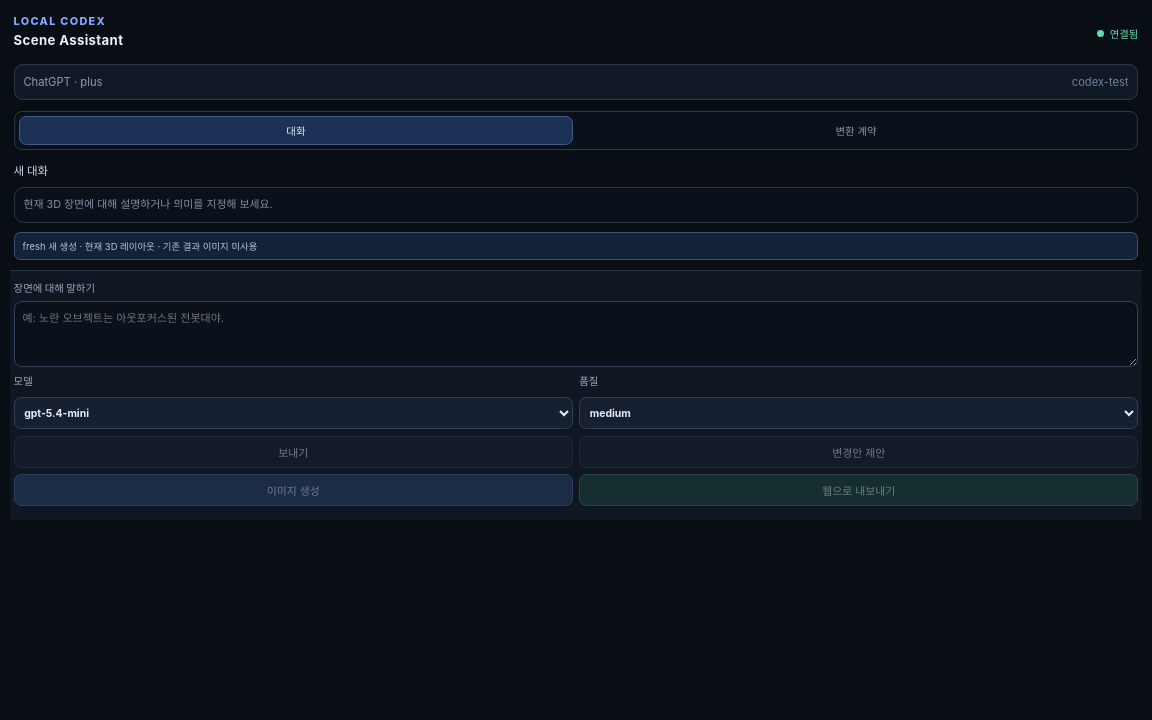
Test: SceneAssistantPanel › Codex 이미지 생성 지원과 무관하게 GPT 웹용 프롬프트를 내보낸다
Type "비 오는 밤의 영화 장면으로 만들어줘." into the text box labelled "장면에 대해 말하기". click: [576, 334]
box: [14,301,1138,367]
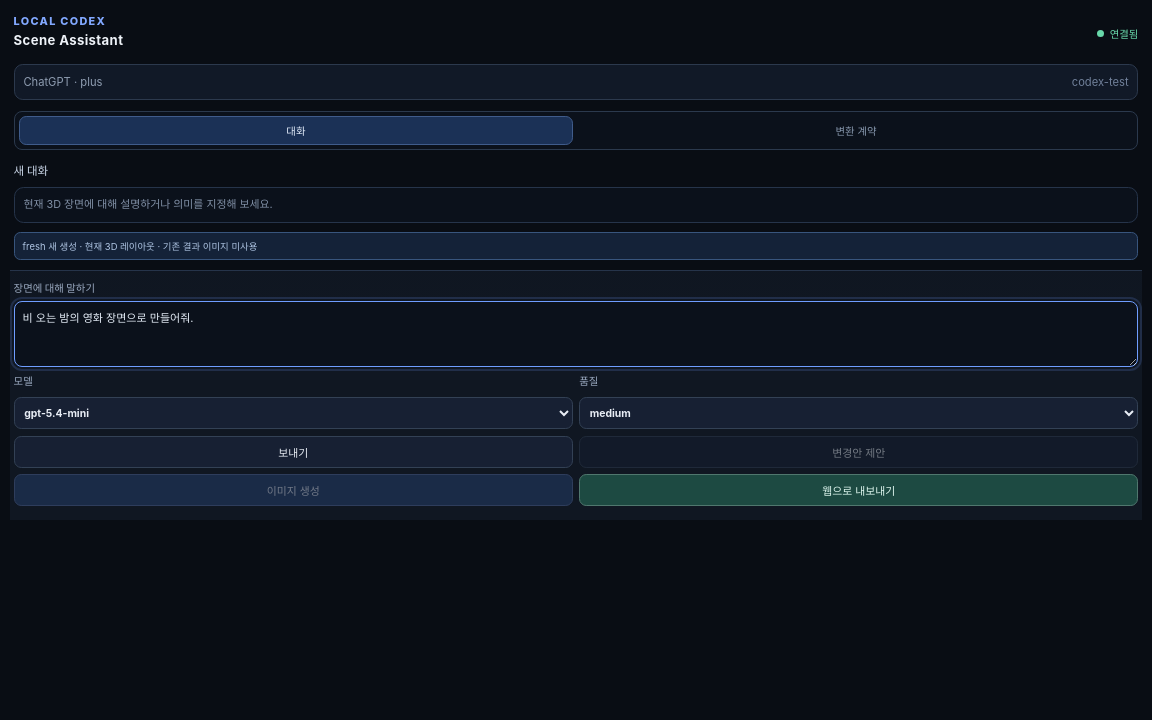
Expected: the button "이미지 생성" is disabled, [14,474,573,506]
Click the button "웹으로 내보내기". click: [859, 490]
box: [579,474,1138,506]
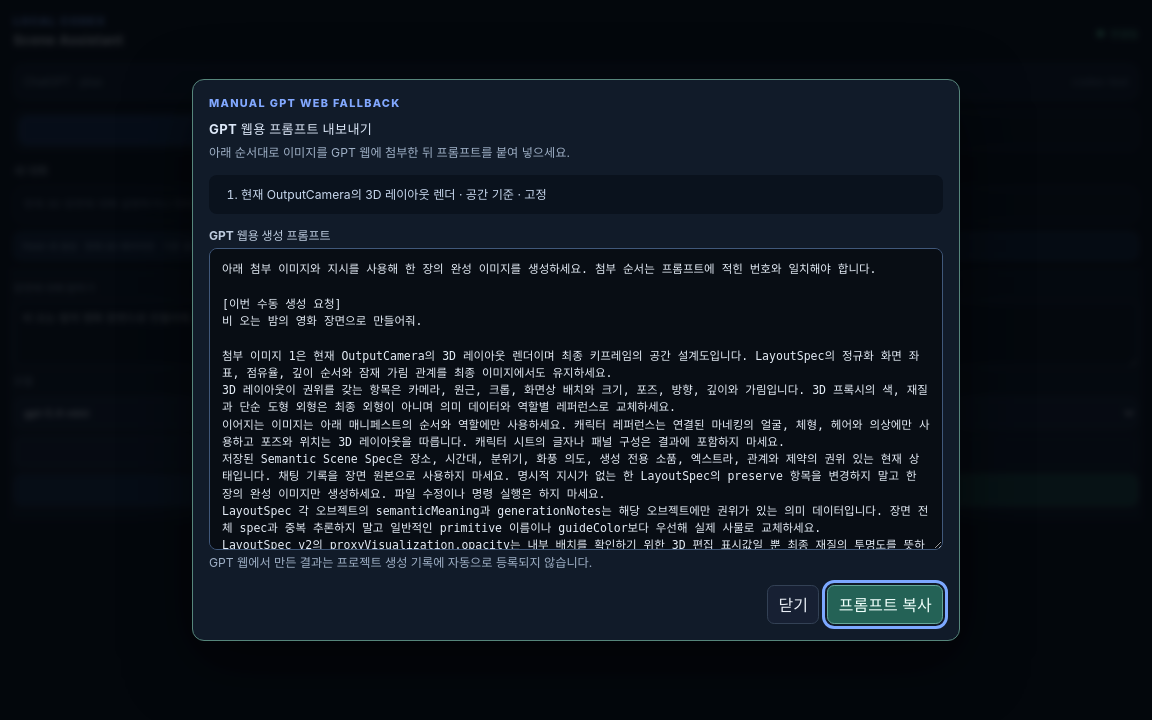
Expected: the dialog "GPT 웹용 프롬프트 내보내기" is shown, [192,79,960,640]
Expected: the list item "현재 OutputCamera의 3D 레이아웃 렌더 · 공간 기준 · 고정" is shown, [241,187,547,202]
